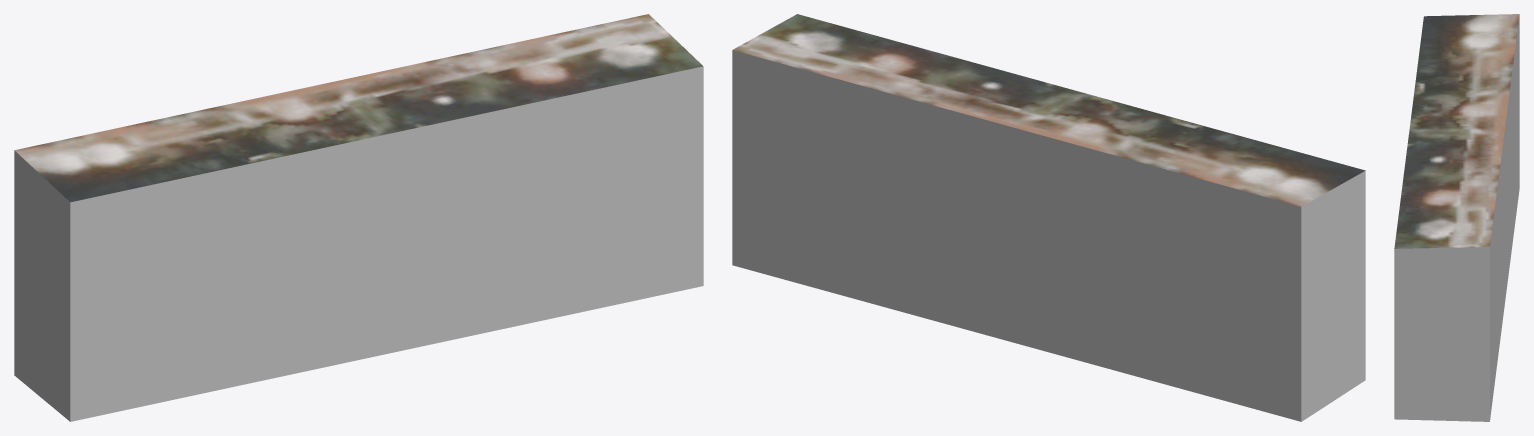
File: DEBW_0010007TvkE.gltf
The picture shows the model from 3 angles, left to right: view 1: azimuth 30°, elevation 25°; view 2: azimuth 150°, elevation 25°; view 3: azimuth 270°, elevation 25°; orthographic projection. The views are drawn at different scales.
Parts seen in each view (by area): view 1: Z_UP; view 2: Z_UP; view 3: Z_UP.
Boxes of the visible parts, x1,y1,x2,y2 form: Z_UP: [14, 14, 703, 421]; Z_UP: [732, 14, 1365, 421]; Z_UP: [1394, 14, 1519, 421].
Bounding box in the file's own units: 30.54 × 10.59 × 6.87.
Materials: 2 (1 with a texture image).
